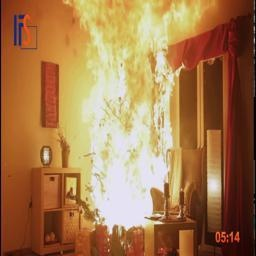fire: (60, 0, 208, 239)
